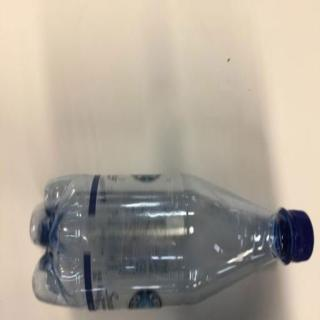Plastic-bottle: (29, 172, 315, 313)
